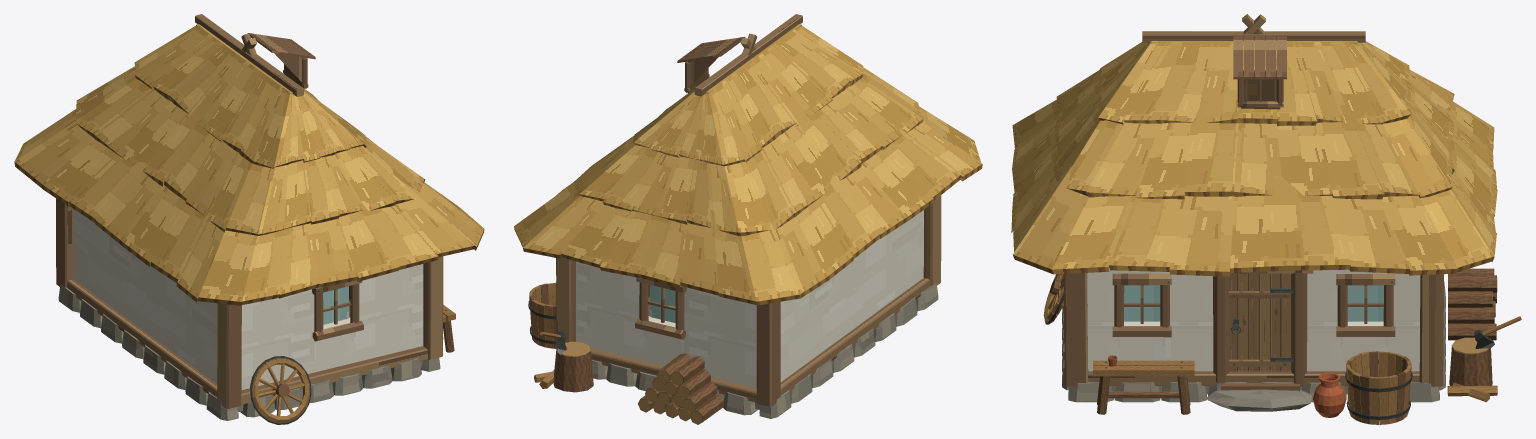
File: khata.glb
3 renders of one model, left to right at view 1: azimuth 30°, elevation 25°; view 2: azimuth 150°, elevation 25°; view 3: azimuth 270°, elevation 25°, orthographic. The views are drawn at different scales.
Visible parts, largest first — view 1: Khata.001, Khata.002, Khata.004, Khata.003; view 2: Khata.001, Khata.003, Khata.007, Khata.002; view 3: Khata.001, Khata.003, Khata.002, Khata.006, Khata.004.
Boxes of the visible parts, box(x1,y1,x2,y2) form: Khata.001: box(14, 14, 484, 420); Khata.002: box(252, 305, 455, 423); Khata.004: box(250, 356, 311, 424); Khata.003: box(272, 309, 454, 396); Khata.001: box(514, 14, 982, 418); Khata.003: box(529, 283, 723, 424); Khata.007: box(556, 341, 702, 424); Khata.002: box(529, 282, 560, 388); Khata.001: box(1011, 14, 1497, 411); Khata.003: box(1050, 268, 1496, 424); Khata.002: box(1043, 274, 1521, 424); Khata.006: box(1108, 355, 1346, 417); Khata.004: box(1044, 293, 1493, 419).
Size of the model in its own units: 1.43 by 1.36 by 1.88.
8 materials, 8 textured.
